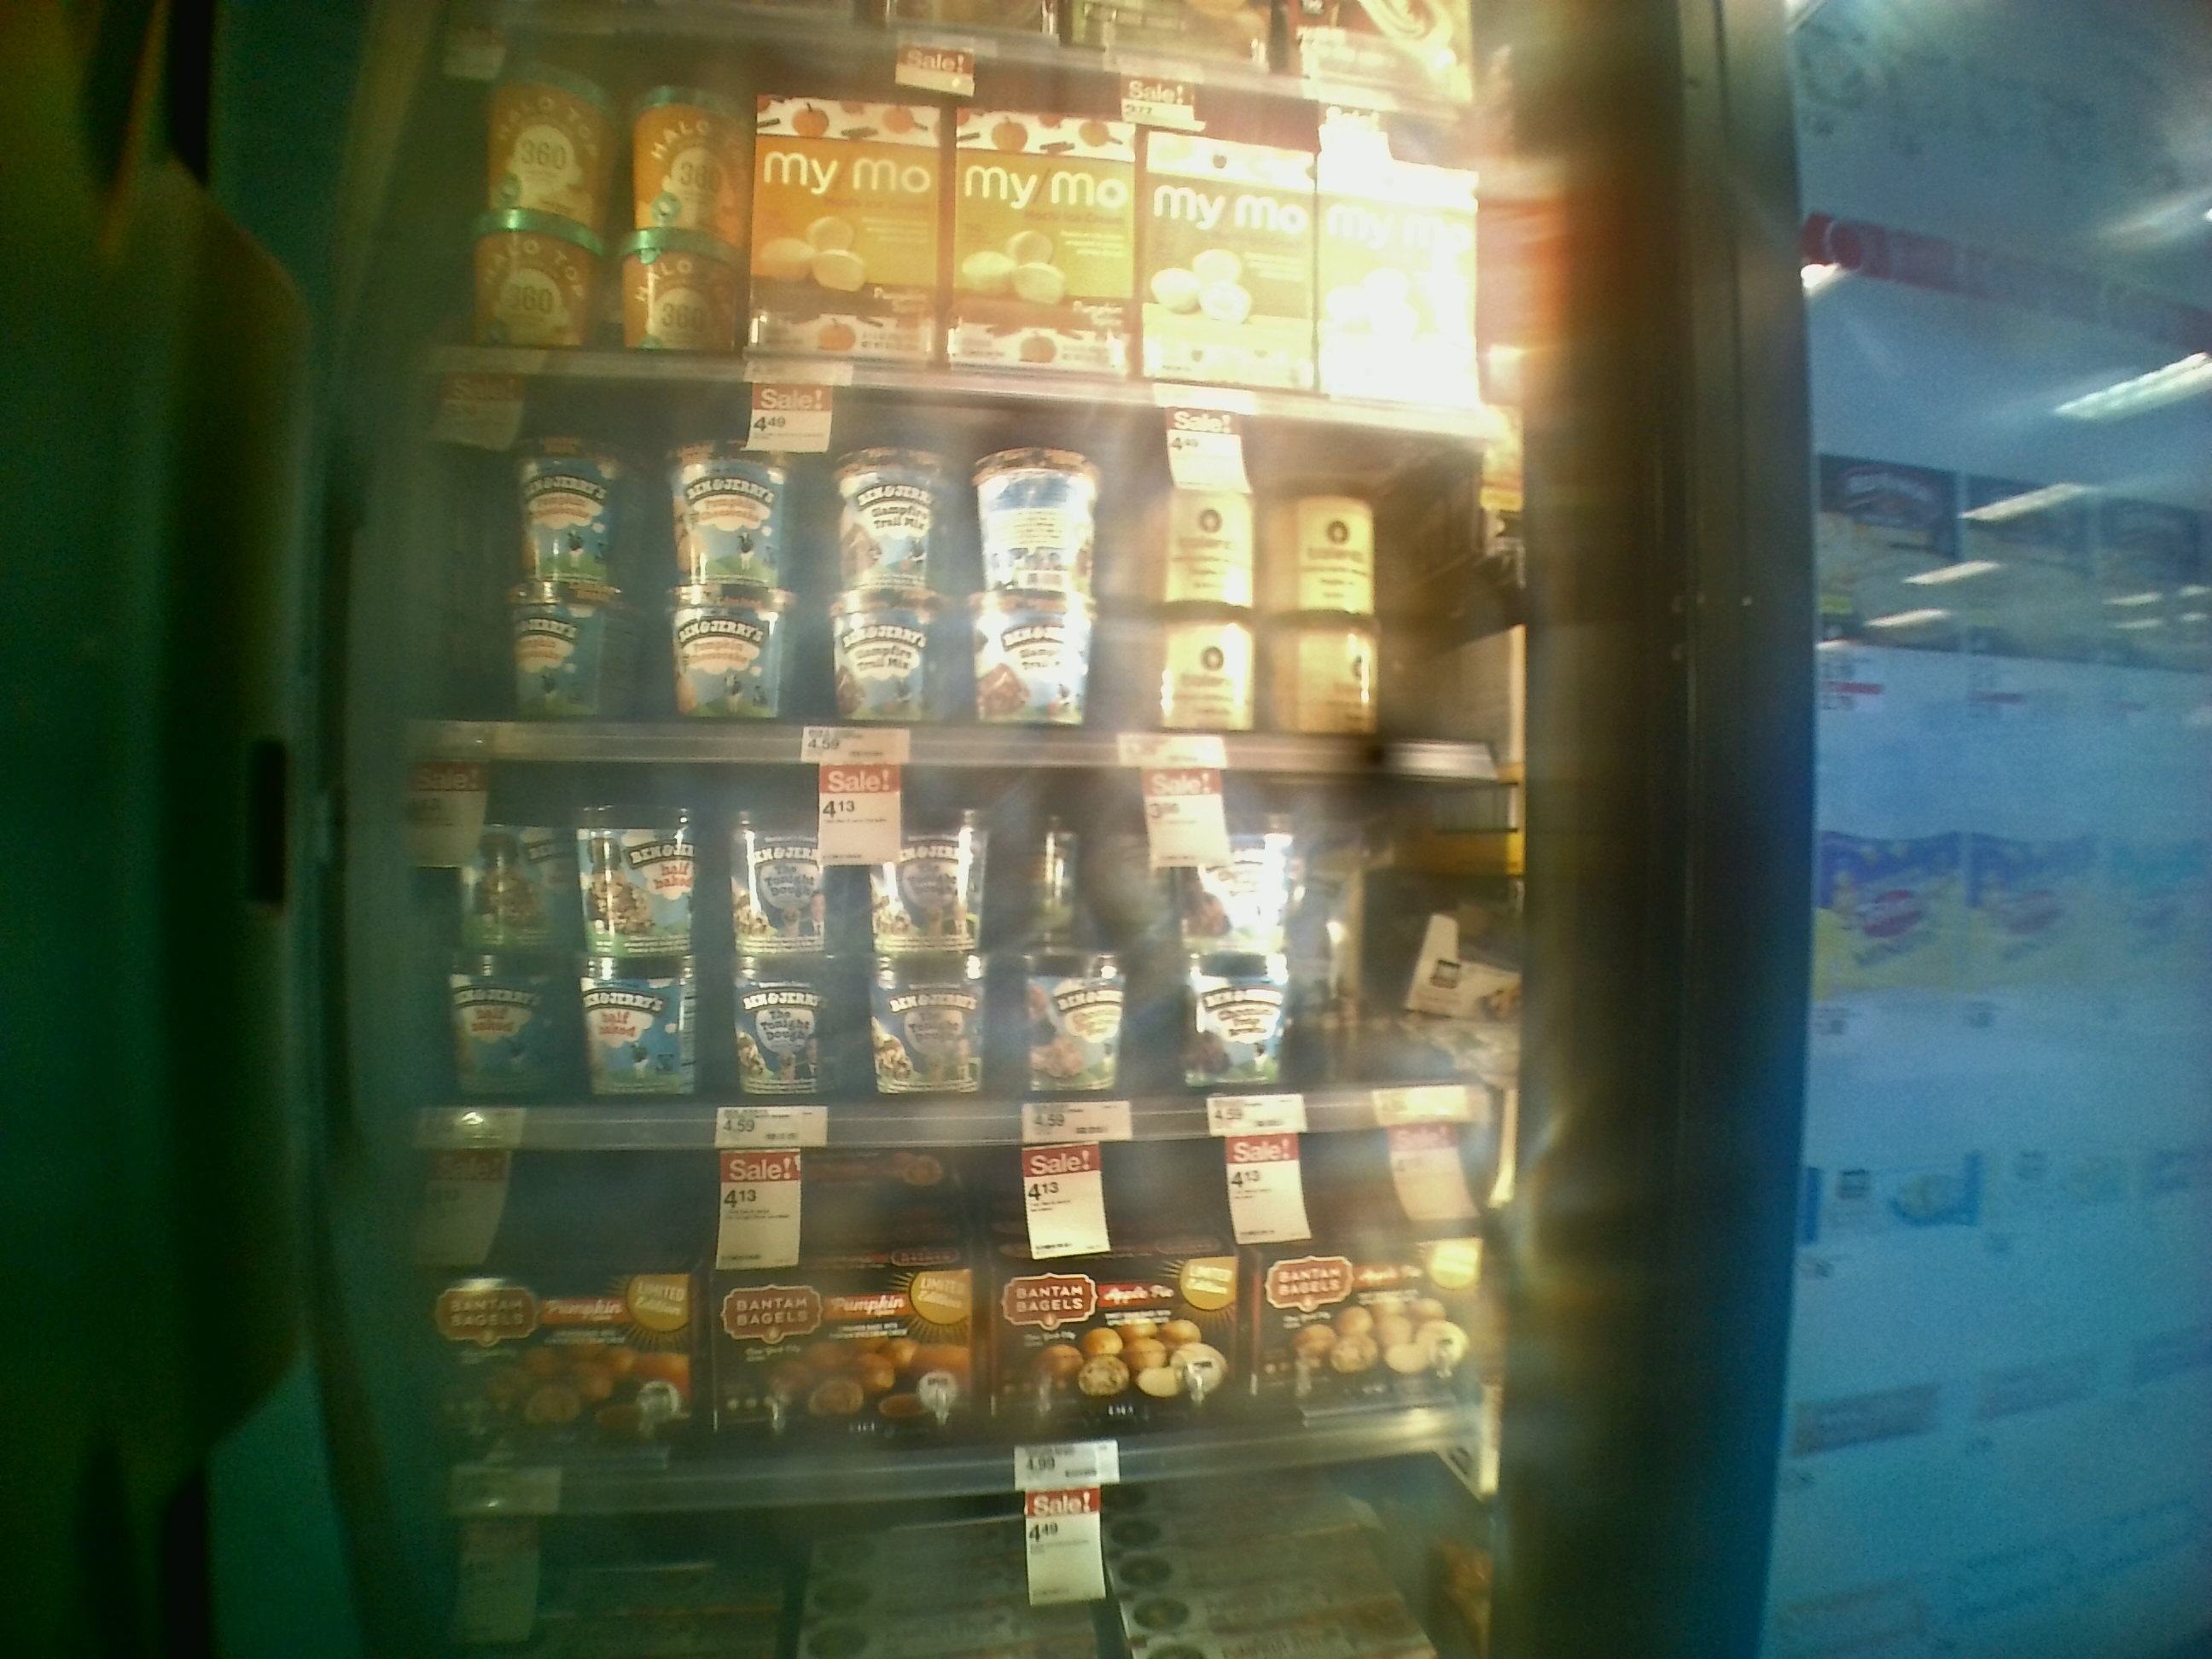shelf: (413, 359, 1519, 786), (381, 763, 1529, 1150), (374, 1133, 1503, 1500)
